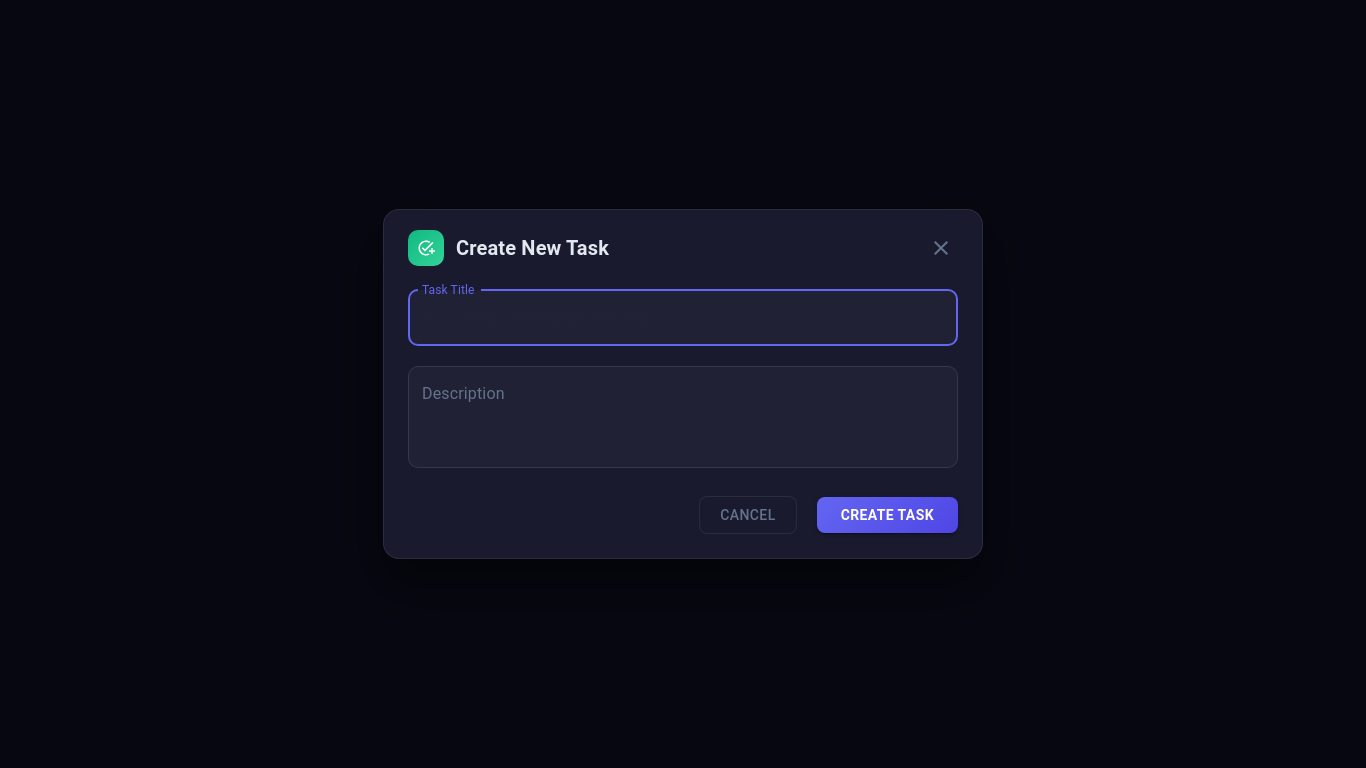
Test: TaskForm › shows validation errors when submitting empty fields
Click the button "Create Task": (887, 515) top-left (817, 497), bottom-right (958, 533)
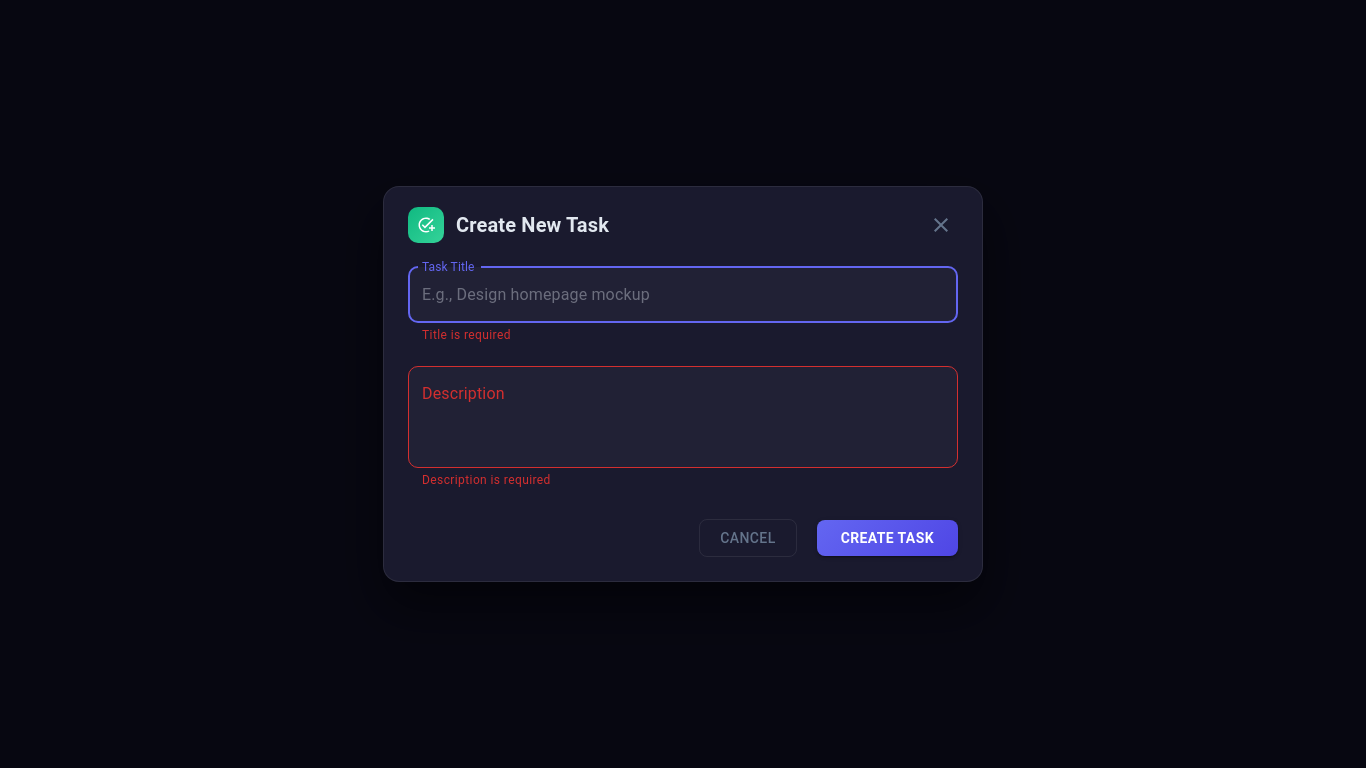
Expected: the text "Title is required" is shown, top-left (422, 328), bottom-right (511, 342)
Expected: the text "Description is required" is shown, top-left (422, 473), bottom-right (551, 487)
